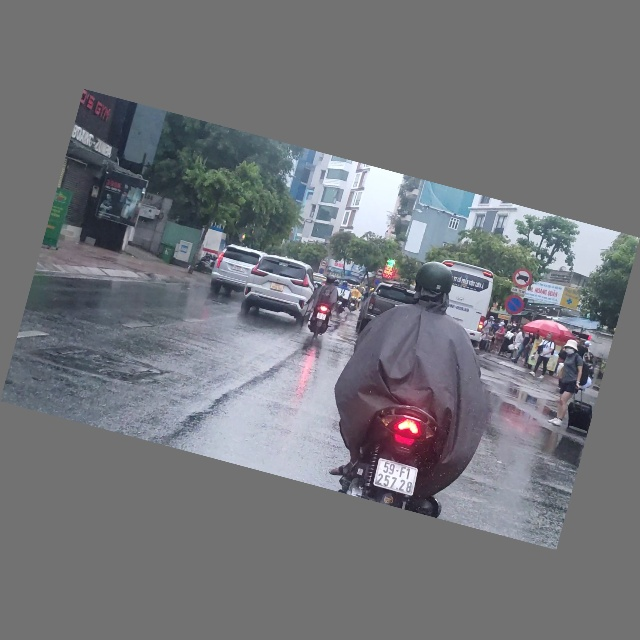P.106a*Xe tai: (510, 267, 535, 291), (376, 268, 385, 277)
P.131a: (502, 292, 527, 318), (373, 279, 381, 287)
